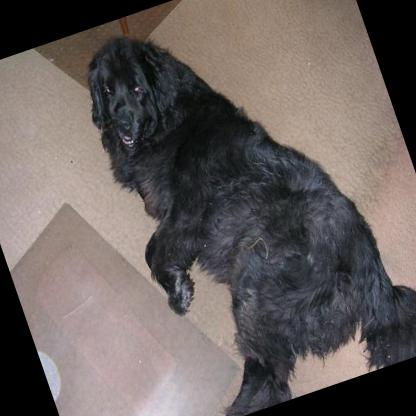Newfoundland: (67, 0, 416, 416)
